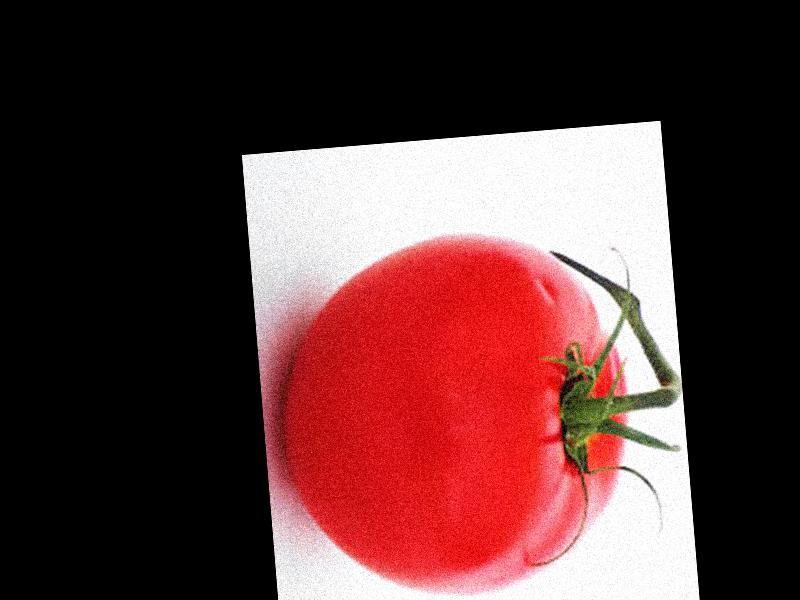Tomato: (267, 225, 640, 600)
